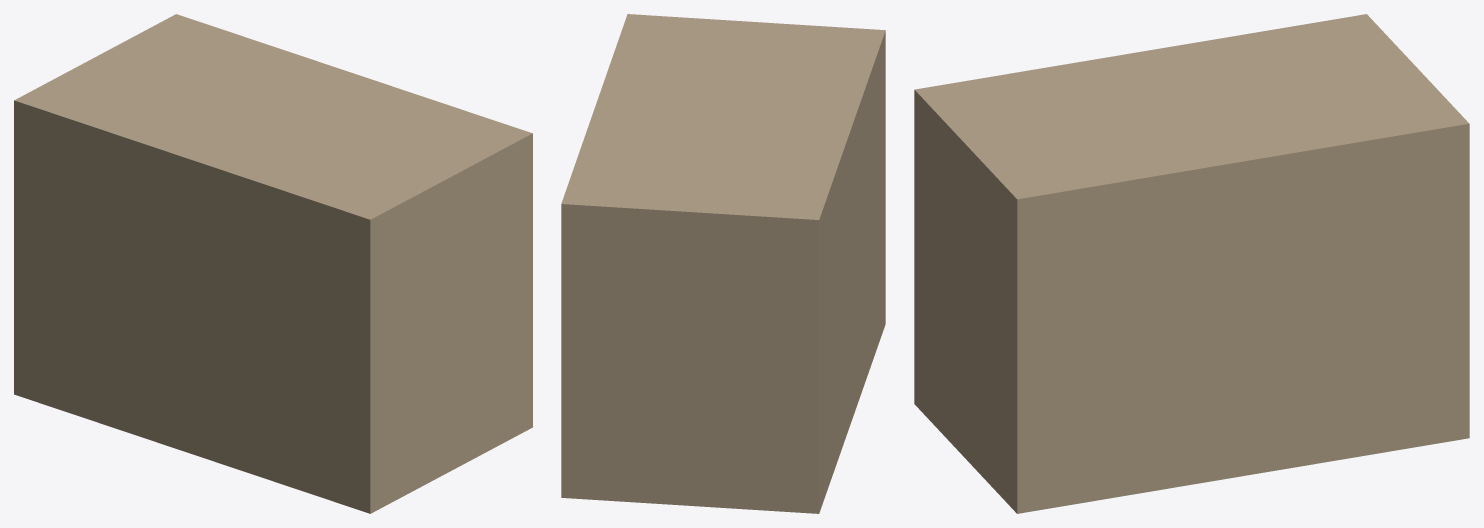
The model's file is bld_106415329.dae.
3 renders of one model, left to right at view 1: azimuth 30°, elevation 25°; view 2: azimuth 150°, elevation 25°; view 3: azimuth 270°, elevation 25°, orthographic. The views are drawn at different scales.
Visible parts, largest first — view 1: bld_106415329; view 2: bld_106415329; view 3: bld_106415329.
Part boxes in pixels (x1=…): bld_106415329: x1=14, y1=14, x2=532, y2=513; bld_106415329: x1=561, y1=14, x2=885, y2=513; bld_106415329: x1=914, y1=14, x2=1469, y2=513.
Size of the model in its own units: 10.11 by 12.79 by 8.
